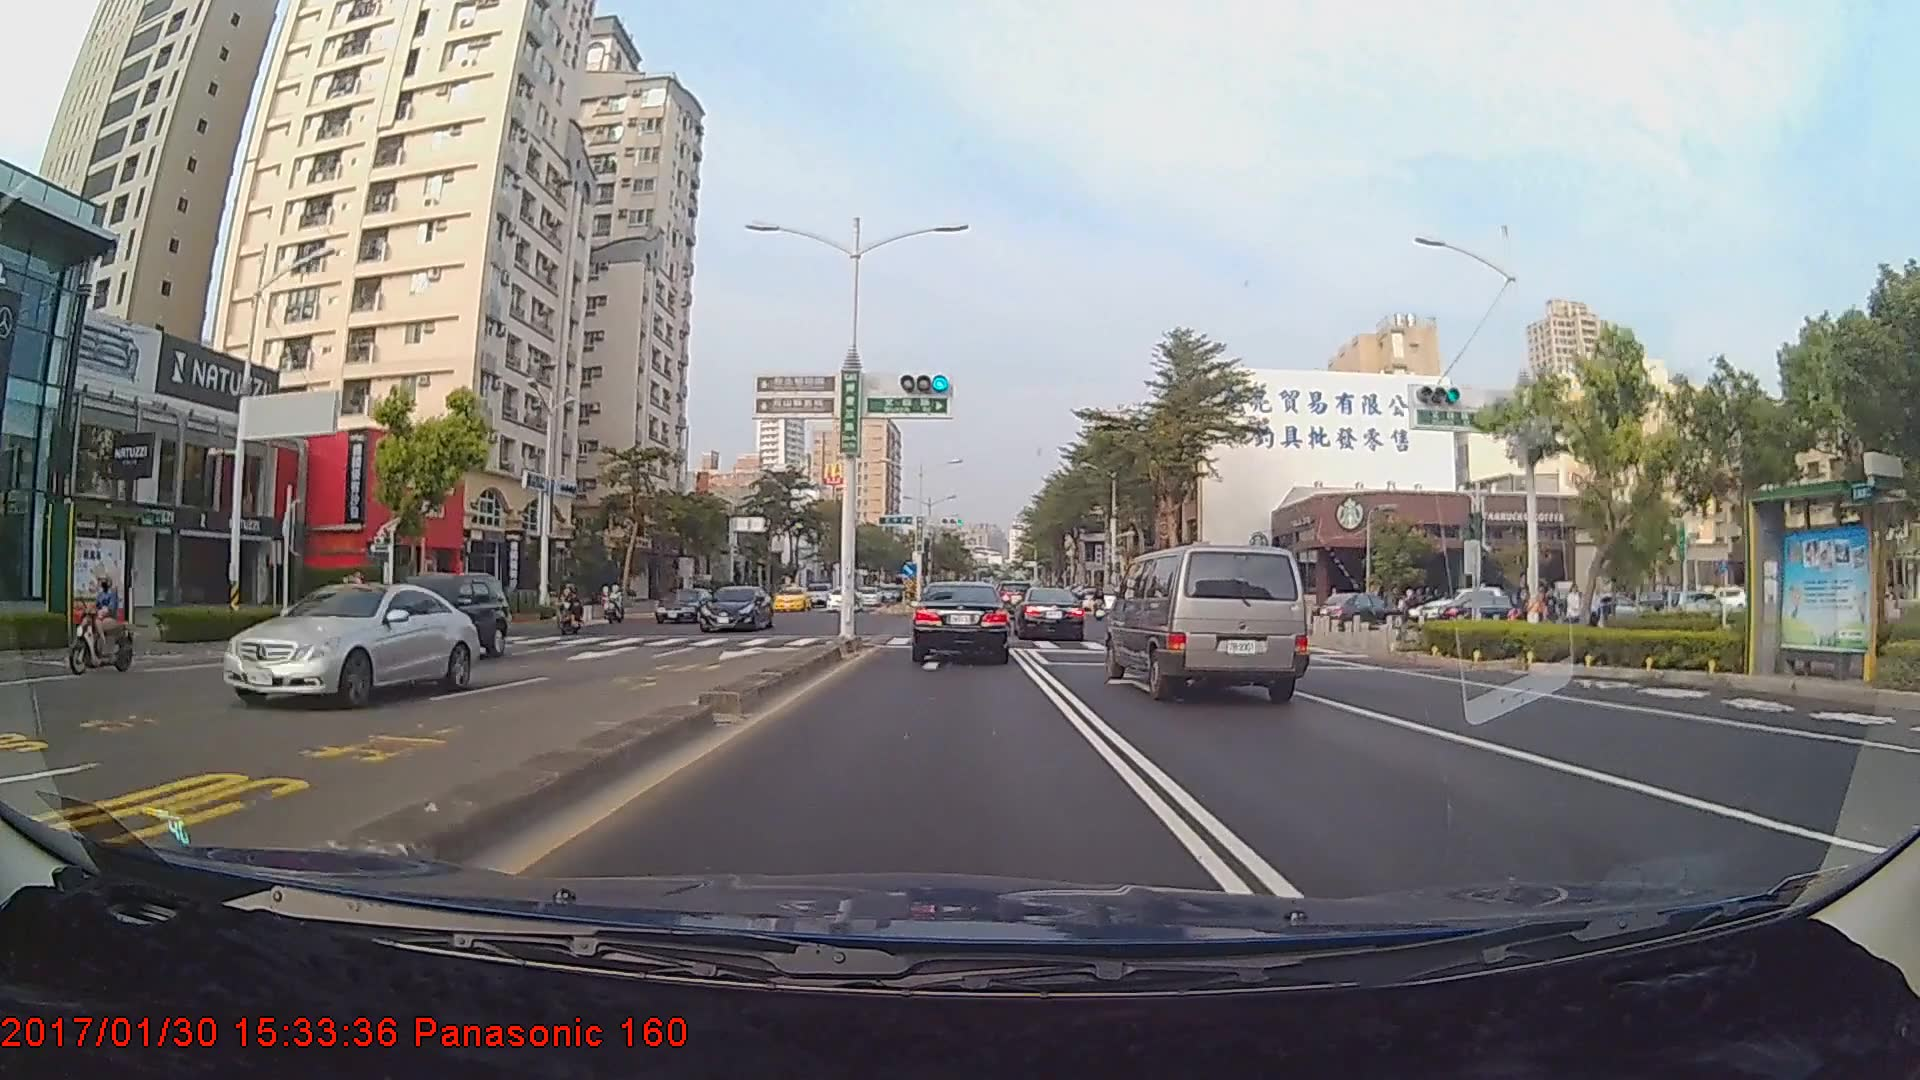pedestrian: (1587, 586, 1608, 646), (1565, 583, 1586, 641)
rider: (61, 572, 140, 677), (327, 573, 382, 647)
vehicle: (1107, 538, 1311, 704), (217, 581, 480, 709), (364, 573, 505, 665), (911, 579, 1010, 664), (1012, 587, 1085, 640), (697, 585, 774, 634), (1319, 592, 1398, 631), (652, 588, 717, 624), (823, 584, 866, 612), (771, 586, 812, 612)
